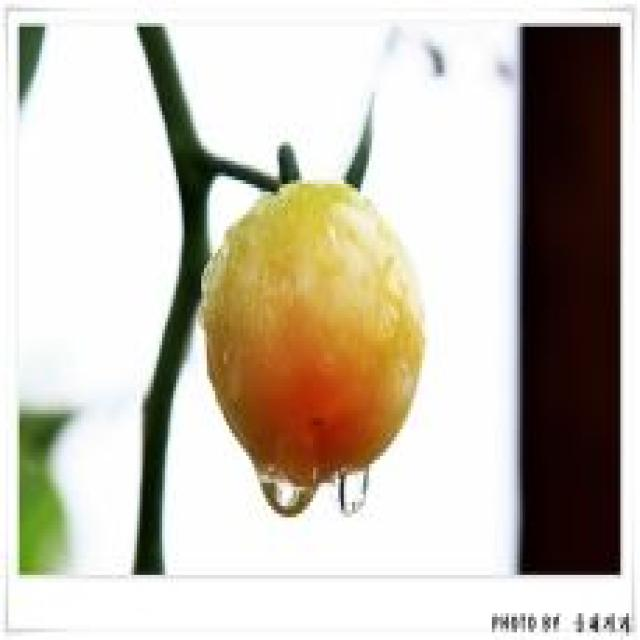level 4: (164, 169, 442, 499)
